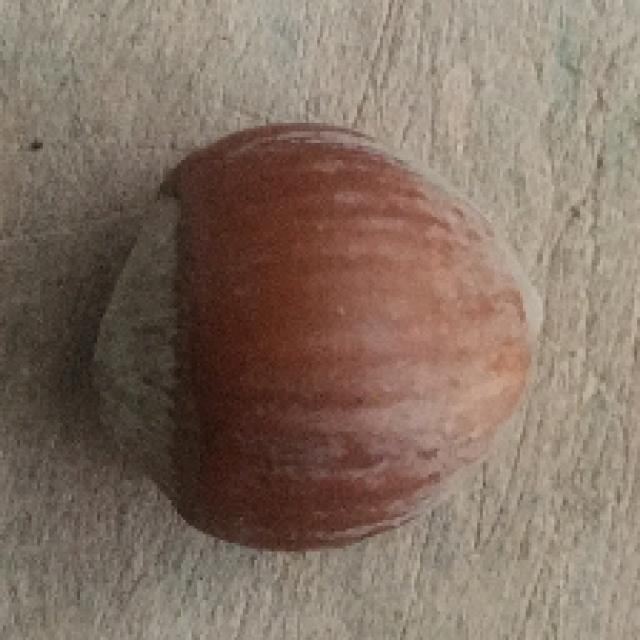qualityHazelnut: (86, 119, 542, 556)
